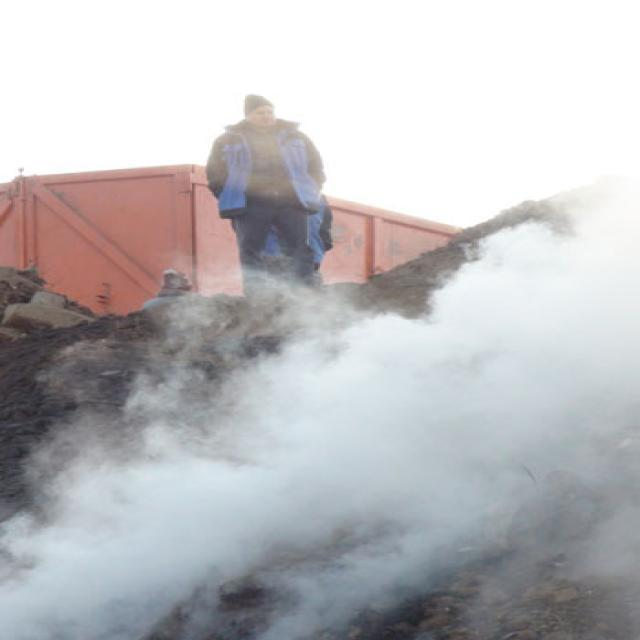Smoke: (3, 194, 640, 632)
